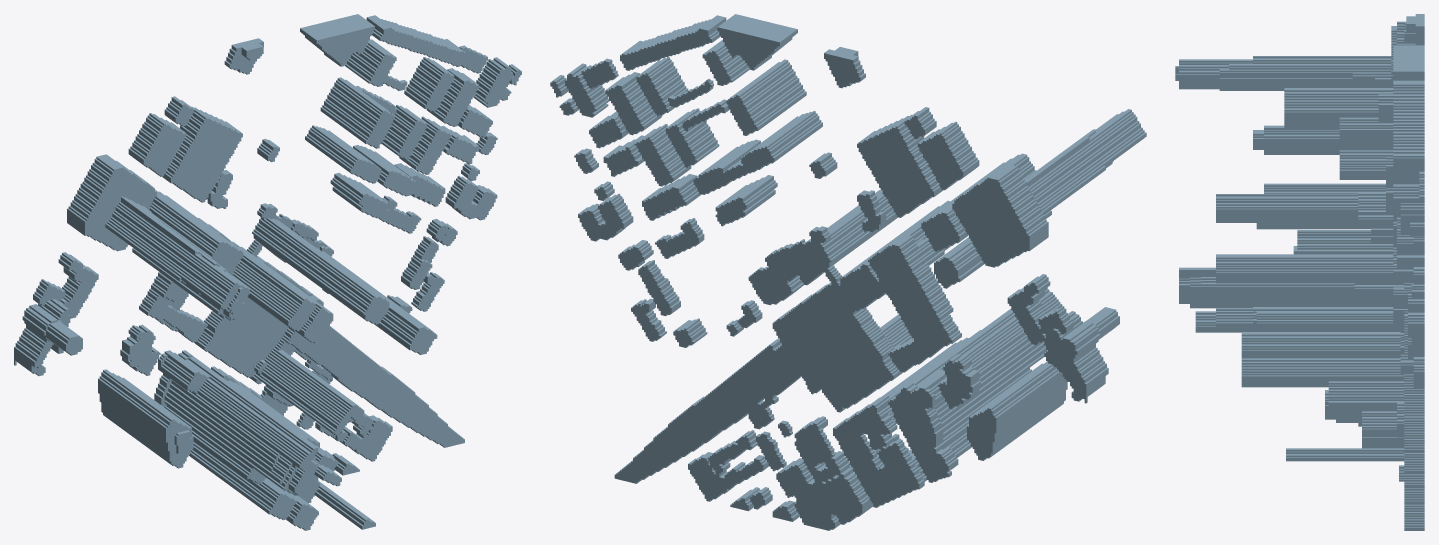
File: building.glb
3 renders of one model, left to right at view 1: azimuth 30°, elevation 25°; view 2: azimuth 150°, elevation 25°; view 3: azimuth 270°, elevation 25°, orthographic. The views are drawn at different scales.
Visible parts, largest first — view 1: Buildings; view 2: Buildings; view 3: Buildings.
Part boxes in pixels (box(x1,y1,x2,y2)): Buildings: box(14, 14, 521, 530); Buildings: box(550, 14, 1146, 530); Buildings: box(1175, 14, 1424, 530).
Size of the model in its own units: 292 by 248 by 135.
